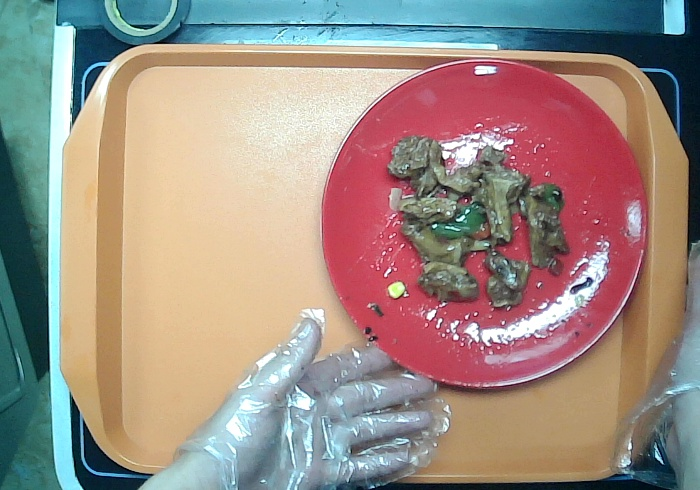HZYJPL-Hong_Se_Yuan_Pan: (317, 56, 649, 392)
